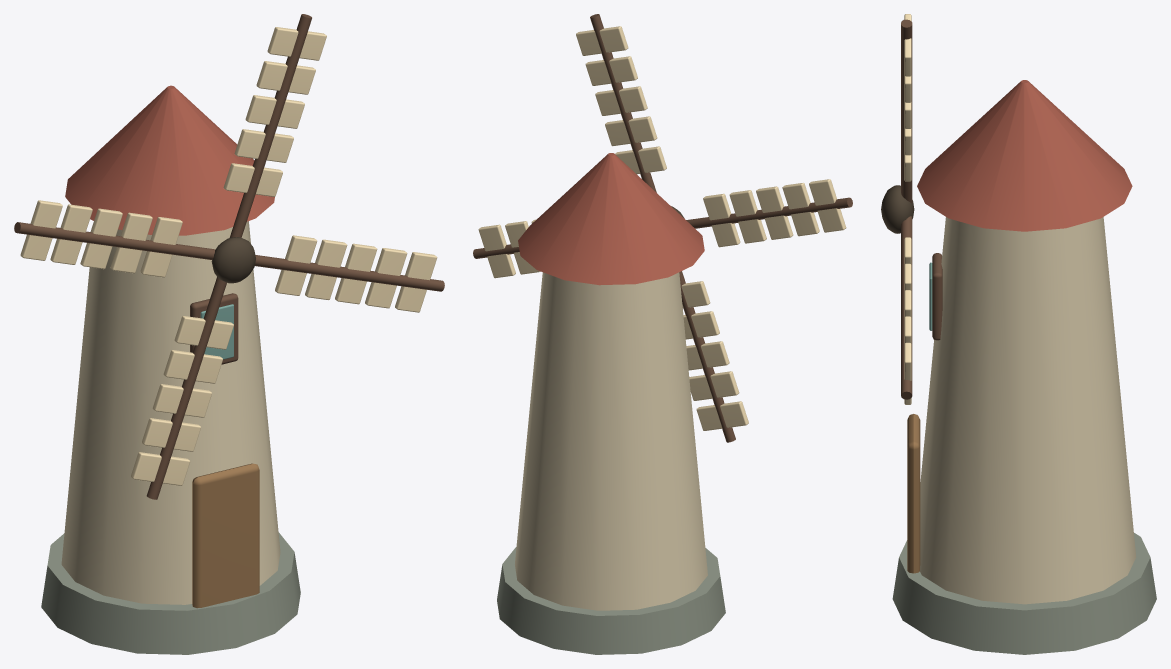
Rendered from windmill.glb.
The picture shows the model from 3 angles, left to right: view 1: azimuth 30°, elevation 25°; view 2: azimuth 150°, elevation 25°; view 3: azimuth 270°, elevation 25°; orthographic projection. The views are drawn at different scales.
Visible parts, largest first — view 1: windmill_plaster, windmill_cream, windmill_roof, windmill_stone, windmill_timber, windmill_wood, windmill_wood_dark, windmill_glass; view 2: windmill_plaster, windmill_cream, windmill_roof, windmill_stone, windmill_timber; view 3: windmill_plaster, windmill_roof, windmill_stone, windmill_timber, windmill_cream, windmill_wood, windmill_wood_dark.
Boxes of the visible parts, left/top/right/bottom form: windmill_plaster: left=61, top=221, right=280, bottom=604; windmill_cream: left=20, top=27, right=437, bottom=485; windmill_roof: left=65, top=85, right=274, bottom=235; windmill_stone: left=41, top=532, right=300, bottom=654; windmill_timber: left=14, top=14, right=444, bottom=499; windmill_wood: left=192, top=463, right=259, bottom=608; windmill_wood_dark: left=211, top=237, right=255, bottom=283; windmill_glass: left=200, top=304, right=233, bottom=359; windmill_plaster: left=515, top=272, right=707, bottom=610; windmill_cream: left=478, top=26, right=846, bottom=430; windmill_roof: left=518, top=153, right=704, bottom=285; windmill_stone: left=497, top=547, right=725, bottom=654; windmill_timber: left=473, top=14, right=852, bottom=442; windmill_plaster: left=920, top=217, right=1136, bottom=604; windmill_roof: left=917, top=80, right=1132, bottom=231; windmill_stone: left=892, top=533, right=1156, bottom=654; windmill_timber: left=901, top=19, right=942, bottom=399; windmill_cream: left=904, top=14, right=911, bottom=404; windmill_wood: left=907, top=414, right=920, bottom=573; windmill_wood_dark: left=881, top=185, right=914, bottom=233.
Bounding box in the file's own units: 3.88 × 5.29 × 2.15.
